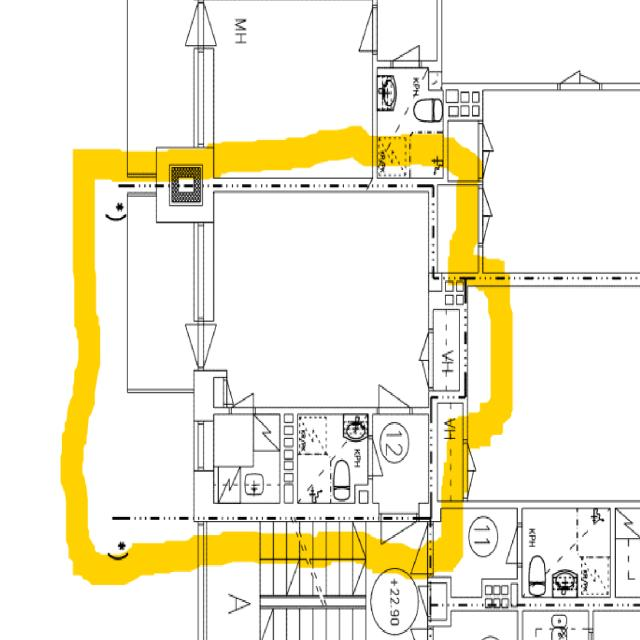door: (381, 503, 416, 570), (194, 323, 244, 366), (164, 323, 214, 366), (379, 364, 410, 415), (368, 438, 400, 476), (231, 376, 253, 415), (408, 332, 434, 360), (409, 360, 434, 386), (222, 380, 243, 404)
